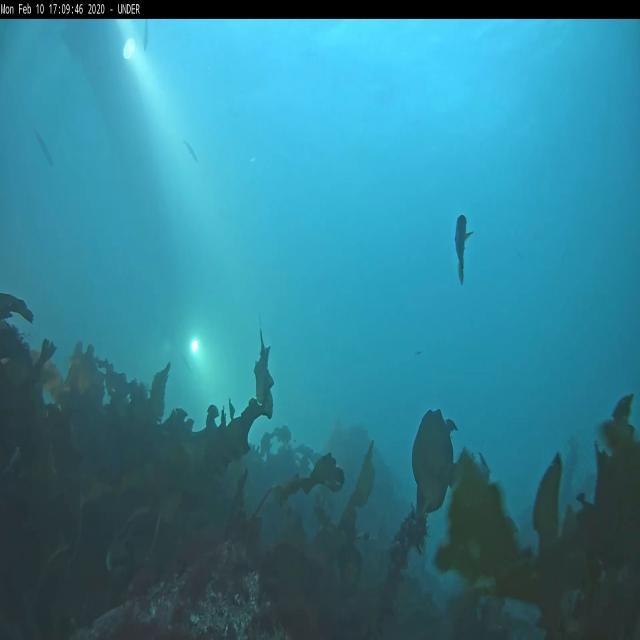fish: (454, 212, 472, 286), (34, 130, 54, 168), (182, 138, 197, 162), (142, 21, 149, 51)
